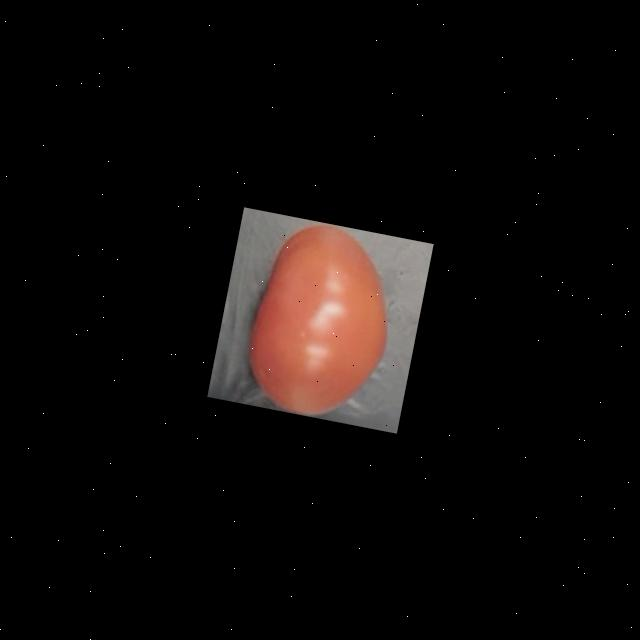tomato: (233, 212, 410, 427)
